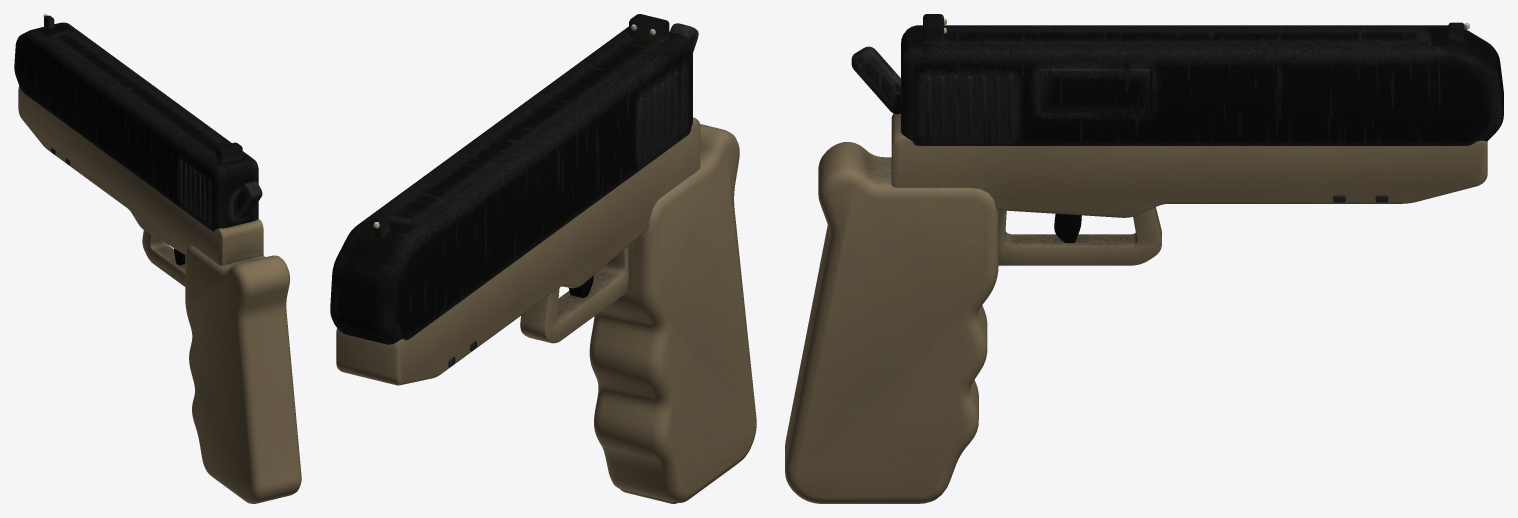
The model's file is fiveseven.glb.
The picture shows the model from 3 angles, left to right: view 1: azimuth 30°, elevation 25°; view 2: azimuth 150°, elevation 25°; view 3: azimuth 270°, elevation 25°; orthographic projection. The views are drawn at different scales.
Parts seen in each view (by area): view 1: body_furniture, slide_receiver, slide_metal; view 2: body_furniture, slide_receiver, slide_metal; view 3: body_furniture, slide_receiver, slide_metal.
Part boxes in pixels (bbox=[...]): body_furniture: bbox=[18, 86, 301, 503]; slide_receiver: bbox=[14, 22, 262, 231]; slide_metal: bbox=[43, 14, 242, 162]; body_furniture: bbox=[336, 117, 756, 502]; slide_receiver: bbox=[330, 23, 698, 344]; slide_metal: bbox=[373, 14, 669, 238]; body_furniture: bbox=[785, 113, 1487, 503]; slide_receiver: bbox=[851, 25, 1503, 145]; slide_metal: bbox=[923, 14, 1469, 44].
Bounding box in the file's own units: 0.031 × 0.1955 × 0.2708.
Materials: 6 (6 with a texture image).
